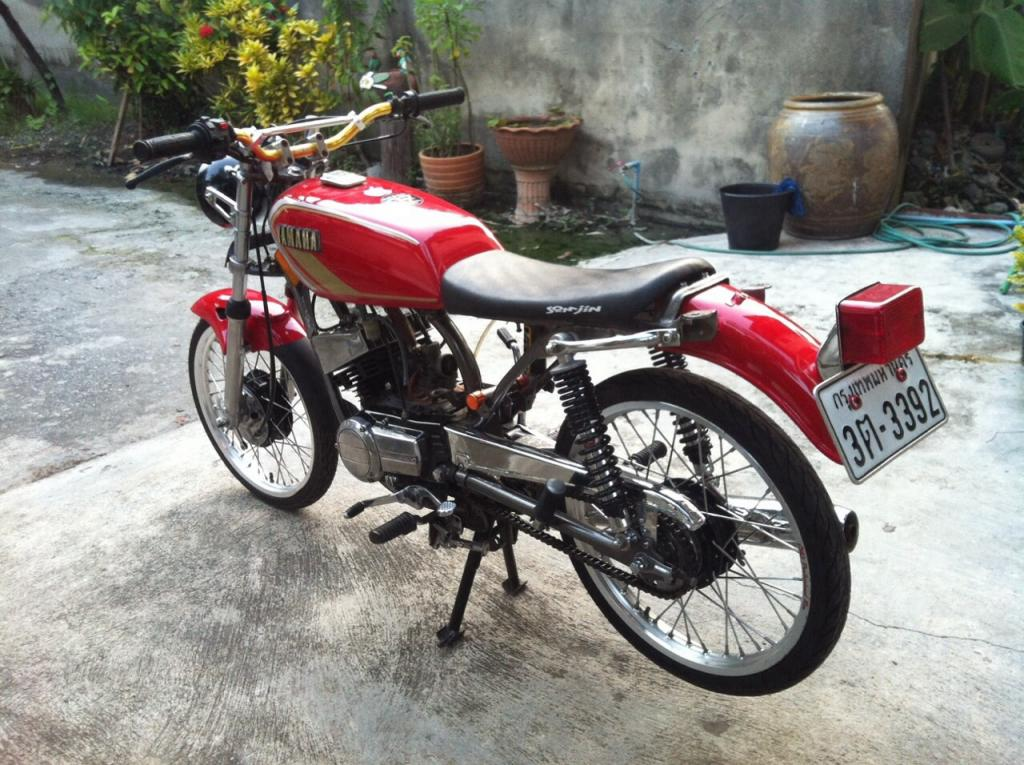motorcycle: (166, 88, 933, 699)
